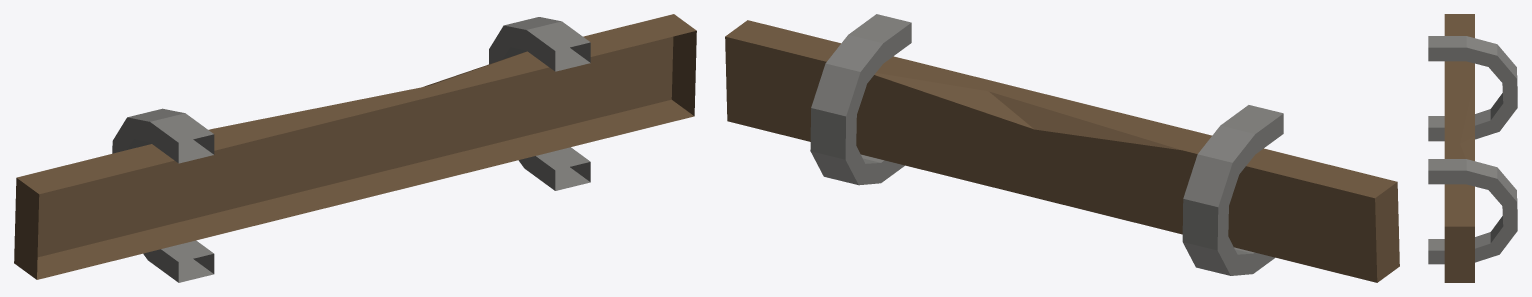
File: rpgpp_ag_door_gate_closed_02.fbx
The picture shows the model from 3 angles, left to right: view 1: azimuth 30°, elevation 25°; view 2: azimuth 150°, elevation 25°; view 3: azimuth 270°, elevation 25°; orthographic projection. The views are drawn at different scales.
Parts seen in each view (by area): view 1: rpgpp_ag_door_gate_closed_02; view 2: rpgpp_ag_door_gate_closed_02; view 3: rpgpp_ag_door_gate_closed_02.
Part boxes in pixels (x1,y1,x2,y2): rpgpp_ag_door_gate_closed_02: [14, 14, 696, 282]; rpgpp_ag_door_gate_closed_02: [725, 14, 1399, 282]; rpgpp_ag_door_gate_closed_02: [1428, 14, 1517, 282].
Size of the model in its own units: 2.1 by 0.4265 by 0.3694.
